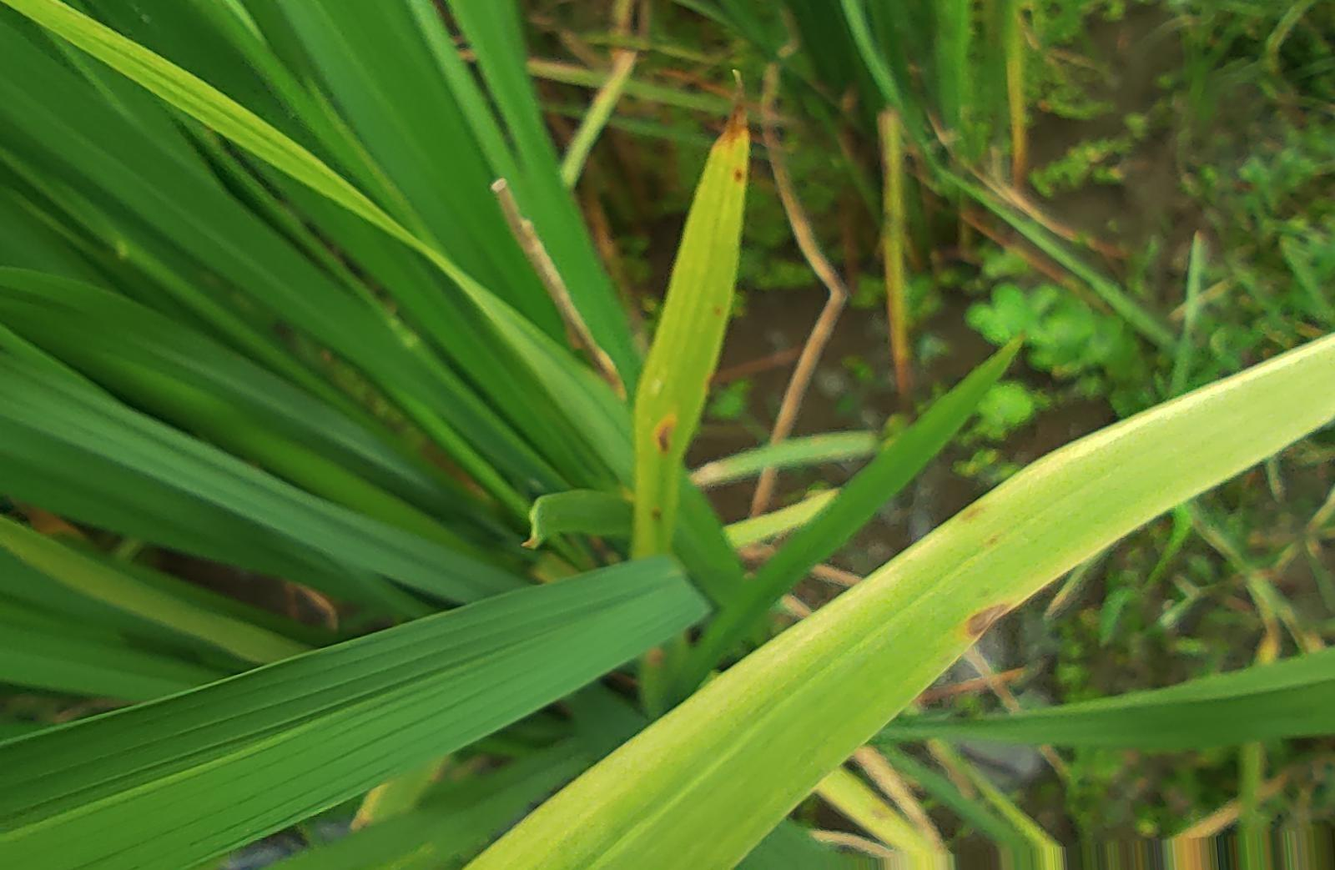LEAF: (470, 336, 1334, 869)
NBS: (956, 600, 1017, 644), (959, 505, 987, 525), (984, 536, 998, 549)
